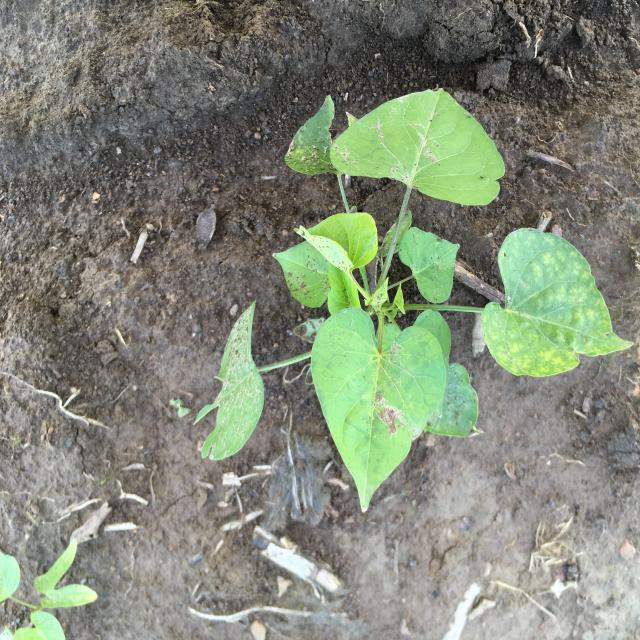MorningGlory: (193, 88, 633, 513), (0, 539, 97, 640)
